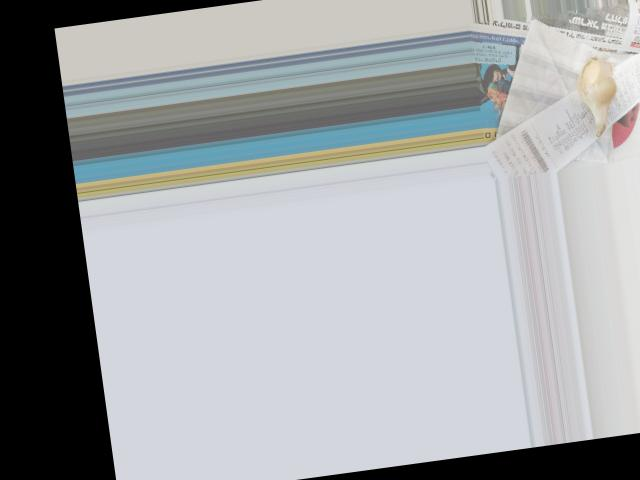onion: (574, 60, 618, 132)
